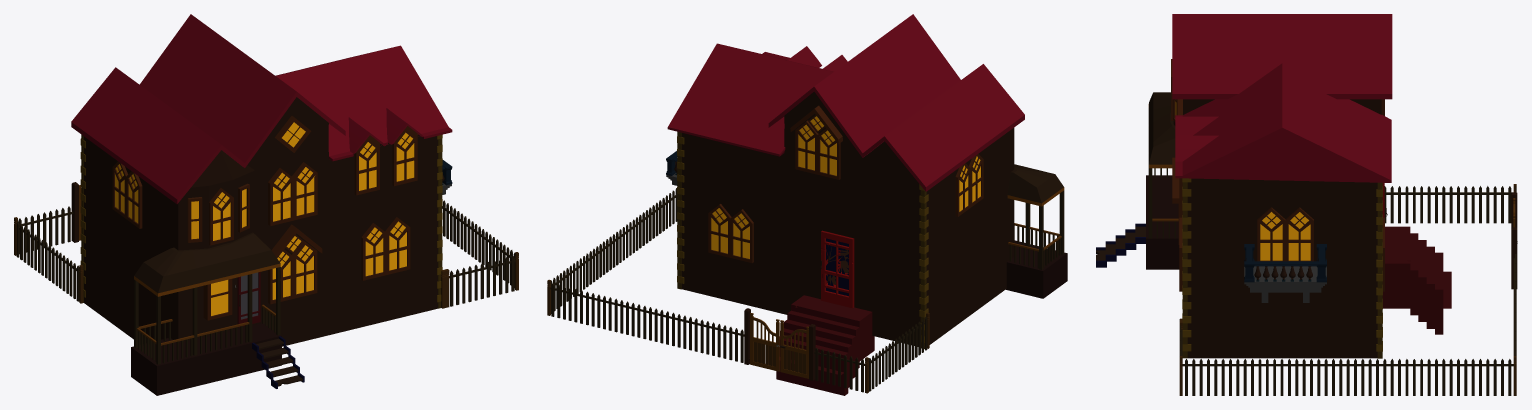
File: Gelistirilmis.fbx
The picture shows the model from 3 angles, left to right: view 1: azimuth 30°, elevation 25°; view 2: azimuth 150°, elevation 25°; view 3: azimuth 270°, elevation 25°; orthographic projection. The views are drawn at different scales.
Visible parts, largest first — view 1: Ev ici, Balkon, Citler, Kapı.000, Cube.003, Cube.002, NurbsPath; view 2: Ev ici, Citler, Balkon, Cube.004, NurbsPath, Bina.000, Cube.002, Cube.001; view 3: Ev ici, Citler, Balkon, Cube.004, Pencereler.001, Cube.003, Cube.001, NurbsPath.
Boxes of the visible parts, bbox=[...] form: Ev ici: bbox=[71, 14, 452, 346]; Balkon: bbox=[131, 232, 304, 395]; Citler: bbox=[14, 200, 518, 308]; Kapı.000: bbox=[237, 272, 260, 327]; Cube.003: bbox=[437, 134, 442, 308]; Cube.002: bbox=[80, 134, 85, 302]; NurbsPath: bbox=[71, 182, 81, 242]; Ev ici: bbox=[666, 14, 1024, 346]; Citler: bbox=[547, 188, 929, 393]; Balkon: bbox=[1006, 164, 1067, 298]; Cube.004: bbox=[776, 295, 874, 395]; NurbsPath: bbox=[744, 308, 815, 380]; Bina.000: bbox=[820, 230, 854, 308]; Cube.002: bbox=[919, 184, 928, 349]; Cube.001: bbox=[677, 131, 684, 289]; Ev ici: bbox=[1171, 14, 1392, 358]; Citler: bbox=[1179, 184, 1516, 395]; Balkon: bbox=[1096, 92, 1179, 269]; Cube.004: bbox=[1382, 226, 1451, 334]; Pencereler.001: bbox=[1244, 244, 1326, 282]; Cube.003: bbox=[1182, 178, 1191, 358]; Cube.001: bbox=[1376, 182, 1382, 358]; NurbsPath: bbox=[1511, 192, 1517, 289].
Size of what is drawn, in the model's own units: 1827 by 1382 by 1702.
